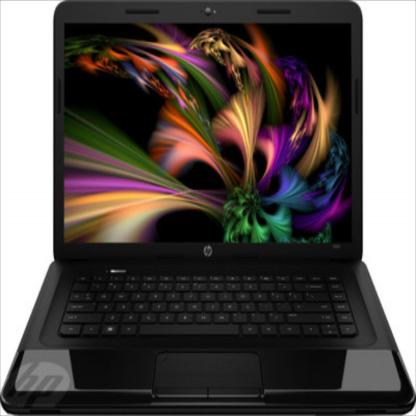board: (8, 0, 416, 416)
